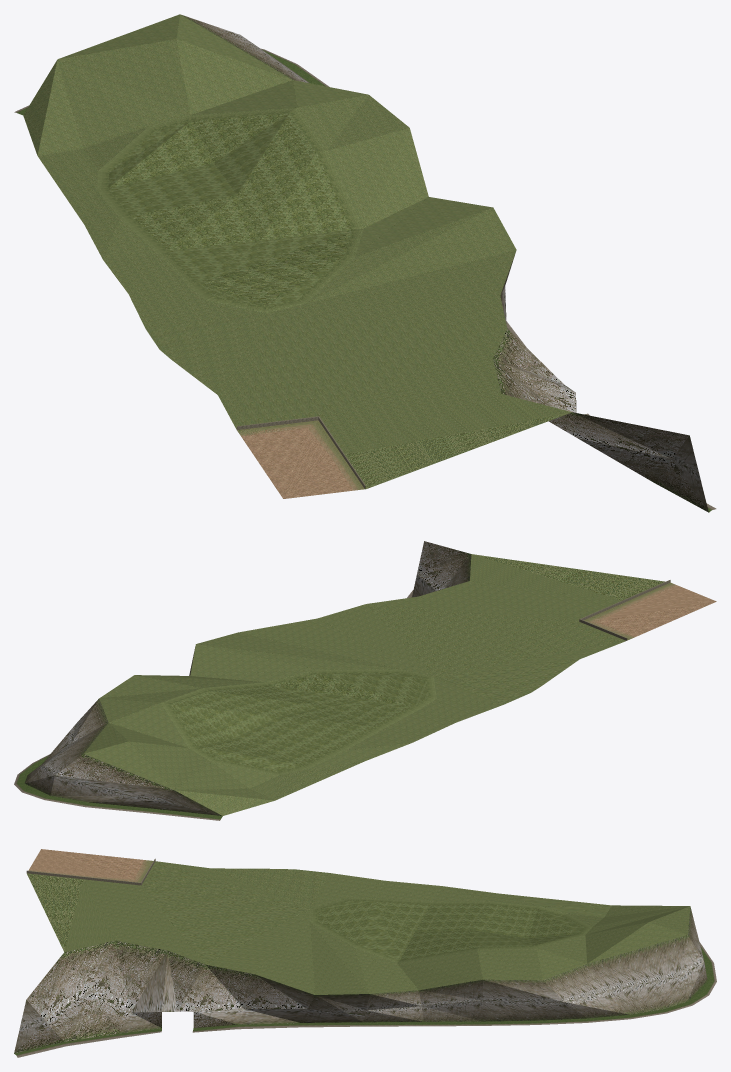
File: lodcuntw10.obj
The picture shows the model from 3 angles, top to bottom: view 1: azimuth 30°, elevation 25°; view 2: azimuth 150°, elevation 25°; view 3: azimuth 270°, elevation 25°; orthographic projection. The views are drawn at different scales.
Parts seen in each view (by area): view 1: lodcuntw10; view 2: lodcuntw10; view 3: lodcuntw10.
Part boxes in pixels (left/top/right/bottom): lodcuntw10: left=14, top=14, right=716, bottom=512; lodcuntw10: left=14, top=541, right=716, bottom=820; lodcuntw10: left=14, top=849, right=716, bottom=1057.
Bounding box in the file's own units: 203 × 63.88 × 378.
9 materials, 9 textured.
